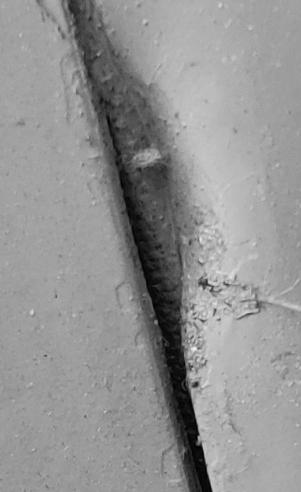dent: (1, 1, 301, 492)
